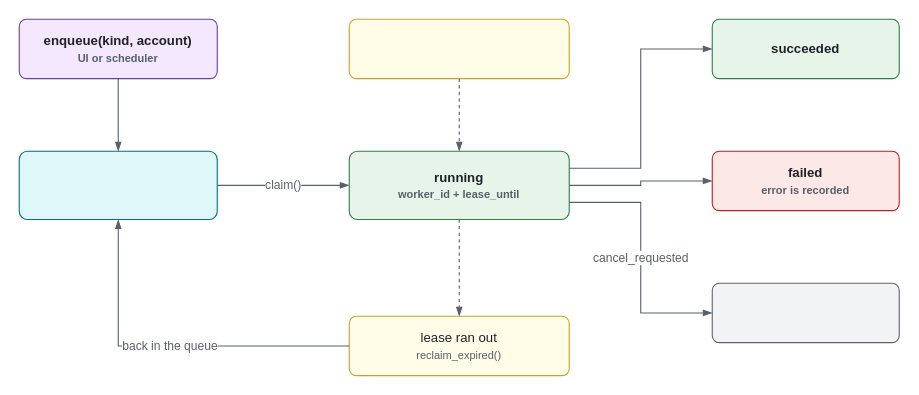
This 919x395 diagram has some shape labels left out. Each missing label, with the centre of its shape:
cancelled asked to stop, not killed: point 805,312
heartbeat every 10 s pushes the lease out: point 458,48
queued waiting for a worker: point 117,184
